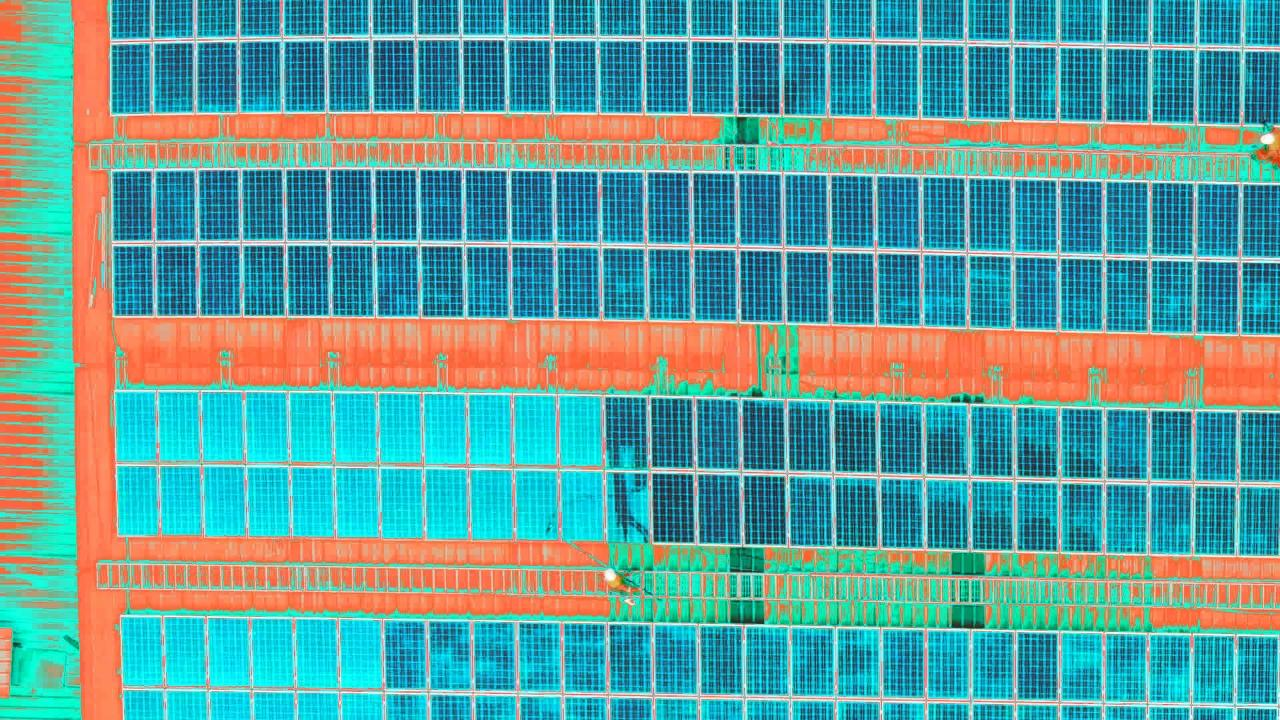clean: (108, 166, 1280, 334), (111, 1, 1280, 120)
dirty: (112, 391, 608, 549), (120, 614, 379, 720)
semi: (609, 394, 1280, 561), (382, 623, 1280, 715)
